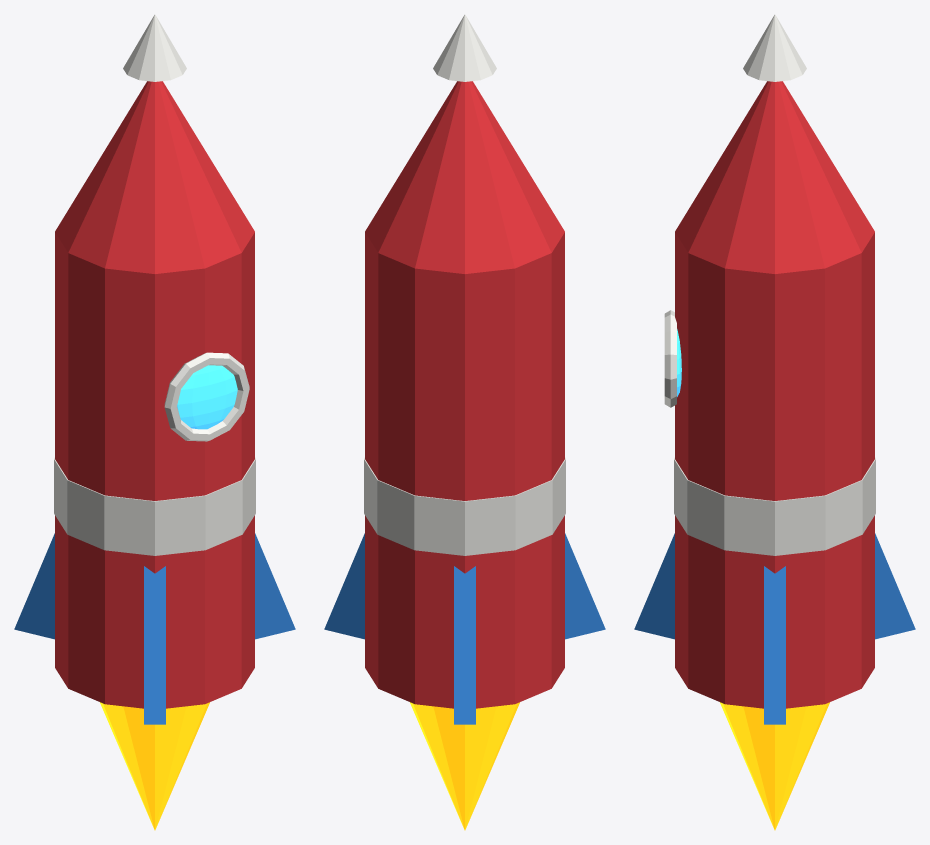
Rendered from rocket.glb.
The picture shows the model from 3 angles, left to right: view 1: azimuth 30°, elevation 25°; view 2: azimuth 150°, elevation 25°; view 3: azimuth 270°, elevation 25°; orthographic projection.
Visible parts, largest first — view 1: Rocket Body, Nose Cone, White Stripe, Flame Orange, Blue Fin 3, Window Ring, Window Blue, White Tip, Blue Fin 1, Blue Fin 2; view 2: Rocket Body, Nose Cone, White Stripe, Flame Orange, Blue Fin 2, White Tip, Blue Fin 1, Blue Fin 3; view 3: Rocket Body, Nose Cone, White Stripe, Flame Orange, Blue Fin 1, White Tip, Blue Fin 2, Blue Fin 3, Window Ring.
Boxes of the visible parts, bbox=[...] form: Rocket Body: bbox=[55, 232, 254, 708]; Nose Cone: bbox=[55, 81, 254, 273]; White Stripe: bbox=[54, 457, 255, 555]; Flame Orange: bbox=[100, 702, 209, 830]; Blue Fin 3: bbox=[144, 566, 165, 724]; Window Ring: bbox=[164, 352, 249, 441]; Window Blue: bbox=[177, 365, 237, 429]; White Tip: bbox=[123, 14, 186, 81]; Blue Fin 1: bbox=[255, 533, 295, 639]; Blue Fin 2: bbox=[14, 533, 54, 639]; Rocket Body: bbox=[365, 232, 564, 708]; Nose Cone: bbox=[365, 81, 564, 273]; White Stripe: bbox=[364, 457, 565, 555]; Flame Orange: bbox=[410, 702, 519, 830]; Blue Fin 2: bbox=[454, 566, 475, 724]; White Tip: bbox=[433, 14, 496, 81]; Blue Fin 1: bbox=[324, 533, 364, 639]; Blue Fin 3: bbox=[565, 533, 605, 639]; Rocket Body: bbox=[675, 232, 874, 708]; Nose Cone: bbox=[675, 81, 874, 273]; White Stripe: bbox=[674, 457, 875, 555]; Flame Orange: bbox=[720, 702, 829, 830]; Blue Fin 1: bbox=[764, 566, 785, 724]; White Tip: bbox=[743, 14, 806, 81]; Blue Fin 2: bbox=[875, 533, 915, 639]; Blue Fin 3: bbox=[634, 533, 674, 639]; Window Ring: bbox=[664, 310, 676, 407].
Bounding box in the file's own units: 1.28 × 4.5 × 1.41.
